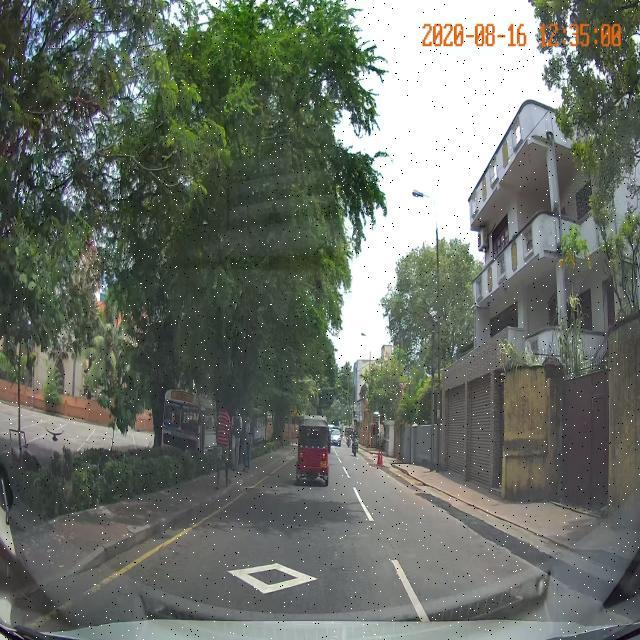diamond: (67, 527, 434, 622)
